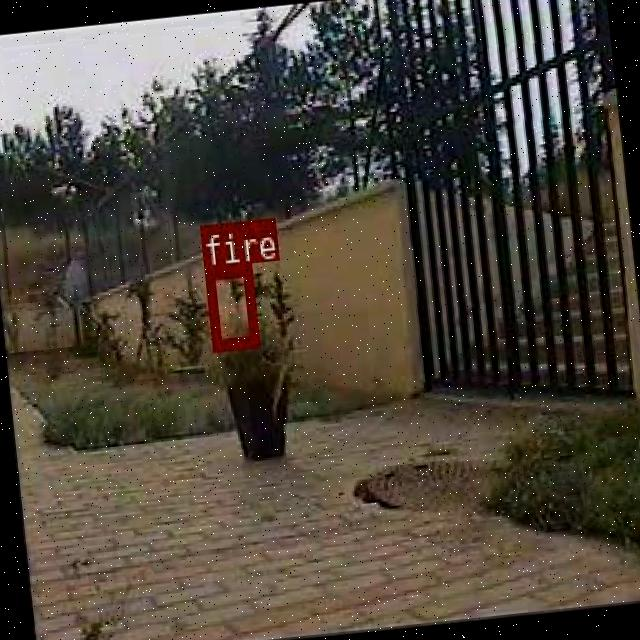fire: (204, 262, 257, 349)
